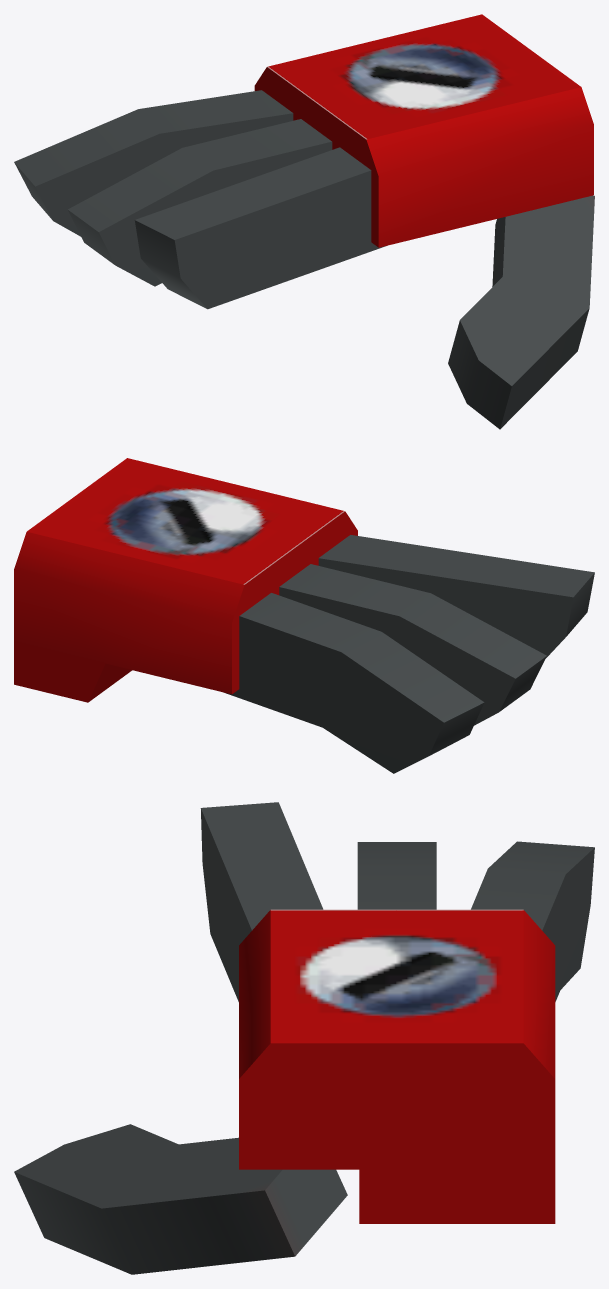
The picture shows the model from 3 angles, top to bottom: view 1: azimuth 30°, elevation 25°; view 2: azimuth 150°, elevation 25°; view 3: azimuth 270°, elevation 25°; orthographic projection. The views are drawn at different scales.
Parts seen in each view (by area): view 1: Joint_0_Object_1, Joint_0_Object_0; view 2: Joint_0_Object_1, Joint_0_Object_0; view 3: Joint_0_Object_0, Joint_0_Object_1.
Part boxes in pixels (bbox=[...]): Joint_0_Object_1: bbox=[14, 90, 594, 429]; Joint_0_Object_0: bbox=[254, 14, 593, 247]; Joint_0_Object_1: bbox=[224, 535, 594, 773]; Joint_0_Object_0: bbox=[14, 458, 357, 702]; Joint_0_Object_0: bbox=[239, 909, 555, 1223]; Joint_0_Object_1: bbox=[14, 802, 594, 1274].
Bounding box in the file's own units: 63.59 × 31.12 × 54.54.
Materials: 2 (2 with a texture image).
